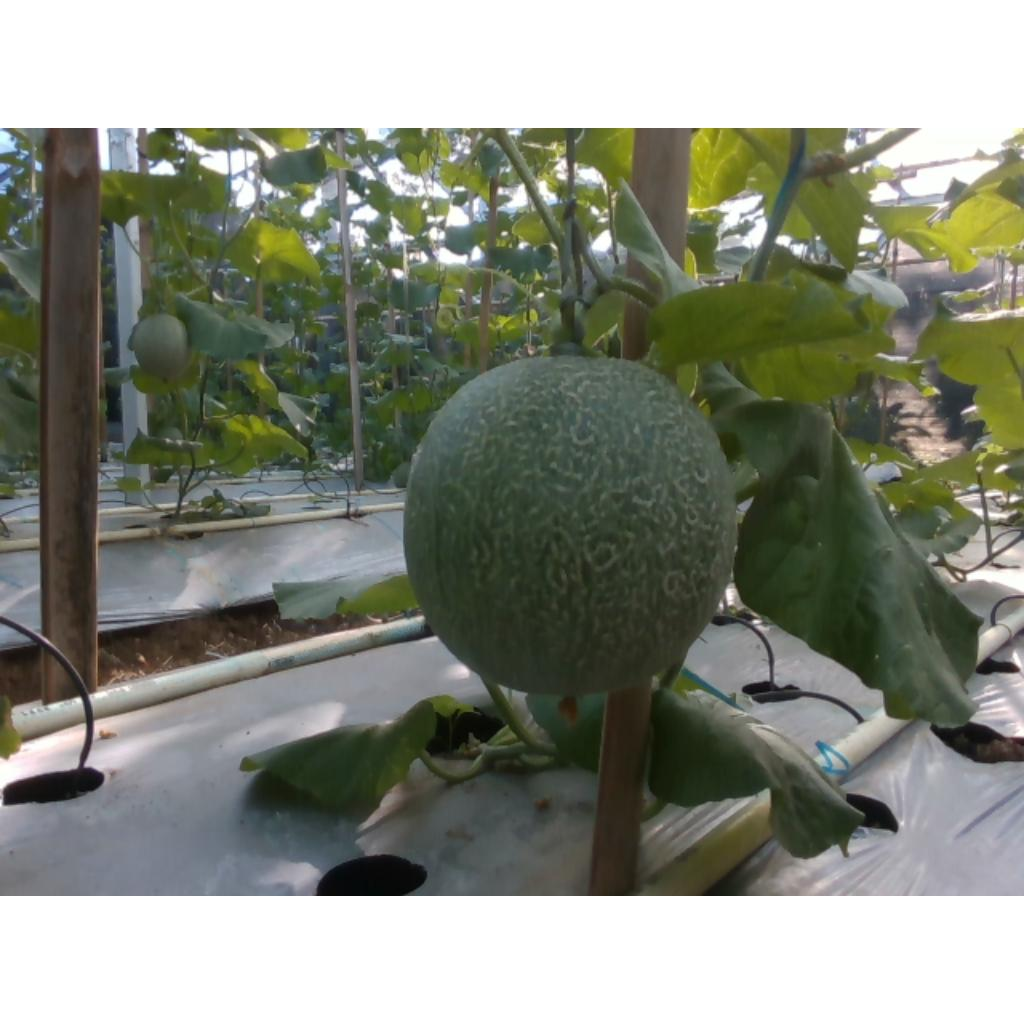melon: (408, 358, 738, 695)
